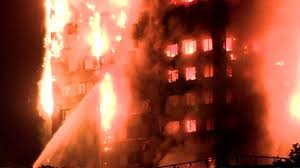fire: (158, 16, 296, 124), (37, 1, 126, 130)
